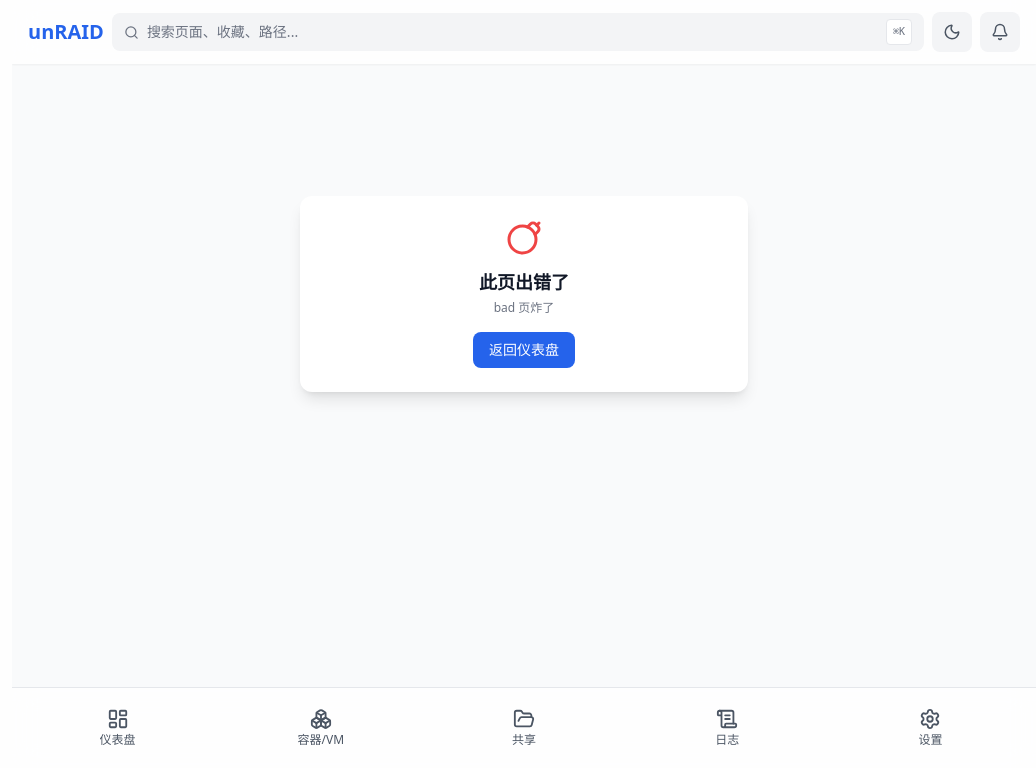
Scenario: RouteErrorBoundary › Layout 接线:页面抛错只换内容区,顶栏/底部导航仍可用;点返回仪表盘后恢复正常页
The width and height of the screenshot is (1036, 768).
Expected: the heading "此页出错了" is shown, [479,270,569,294]
Expected: the text "bad 页炸了" is shown, [494,299,554,316]
# 点「返回仪表盘」→ 软跳 / → boundary 按 pathname key 重置 → 正常页恢复
Click the link "返回仪表盘". click: (524, 350)
box: [473,332,575,368]
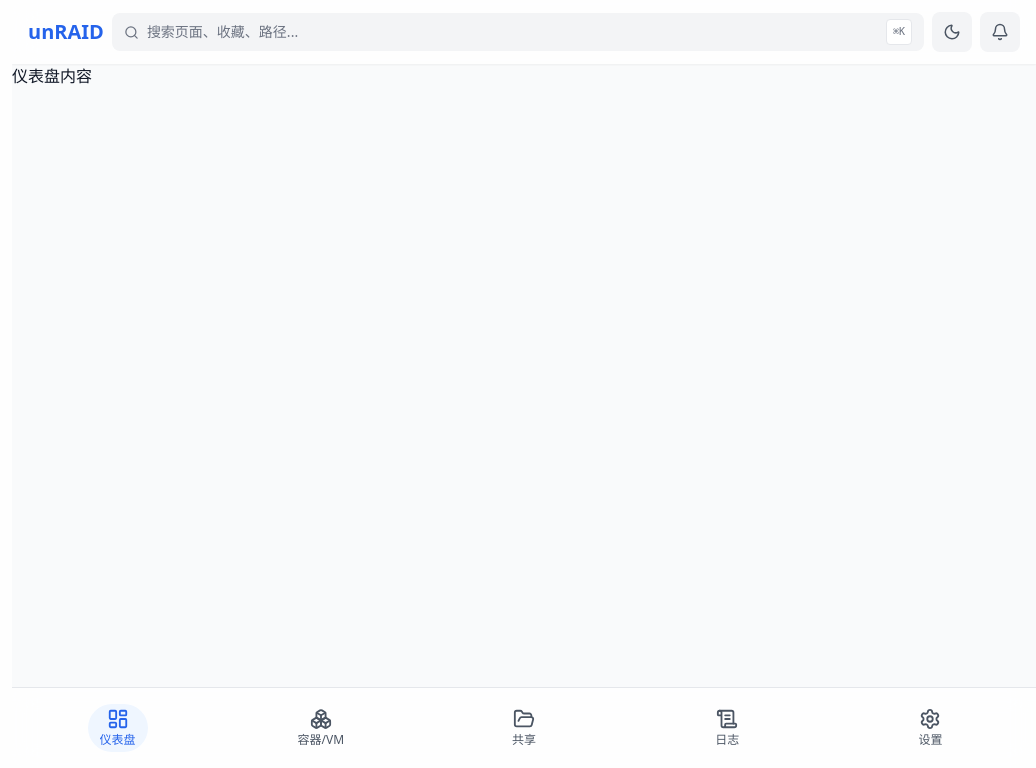
Now the text "仪表盘内容" is shown, box [12,65,92,87]
Now the heading "此页出错了" is gone
